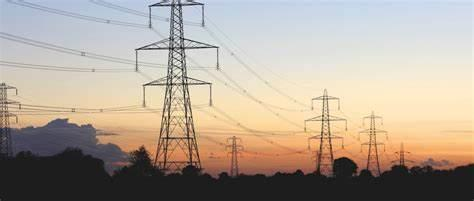power_tower: (134, 0, 220, 174), (303, 86, 346, 178), (353, 108, 390, 179), (0, 81, 26, 158), (223, 133, 246, 177)
